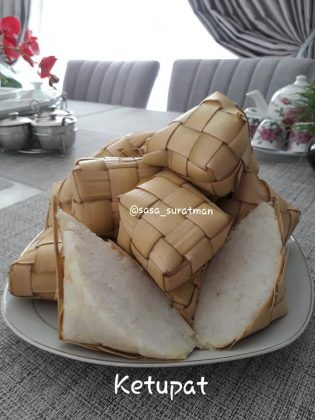ketupat: (116, 167, 234, 290), (144, 90, 252, 197)
